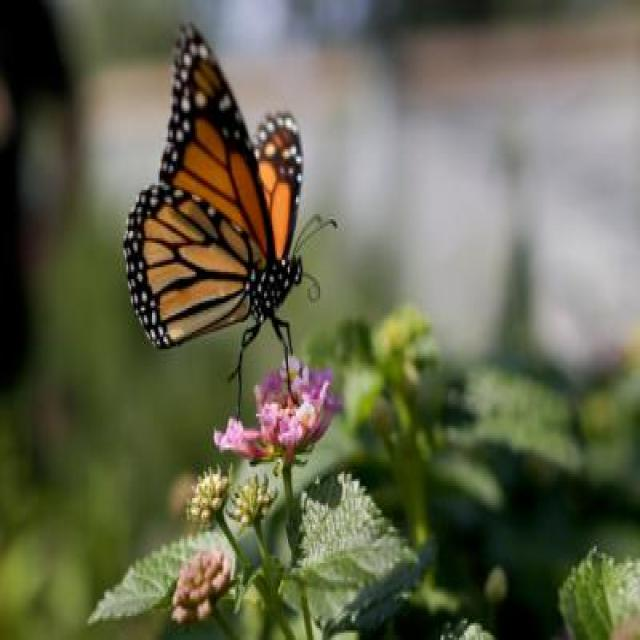antennae: (292, 202, 342, 259)
body: (248, 250, 304, 327)
insect: (122, 20, 340, 417)
legs: (222, 319, 306, 420)
mouthpart: (296, 262, 322, 306)
wings: (124, 22, 303, 350)
